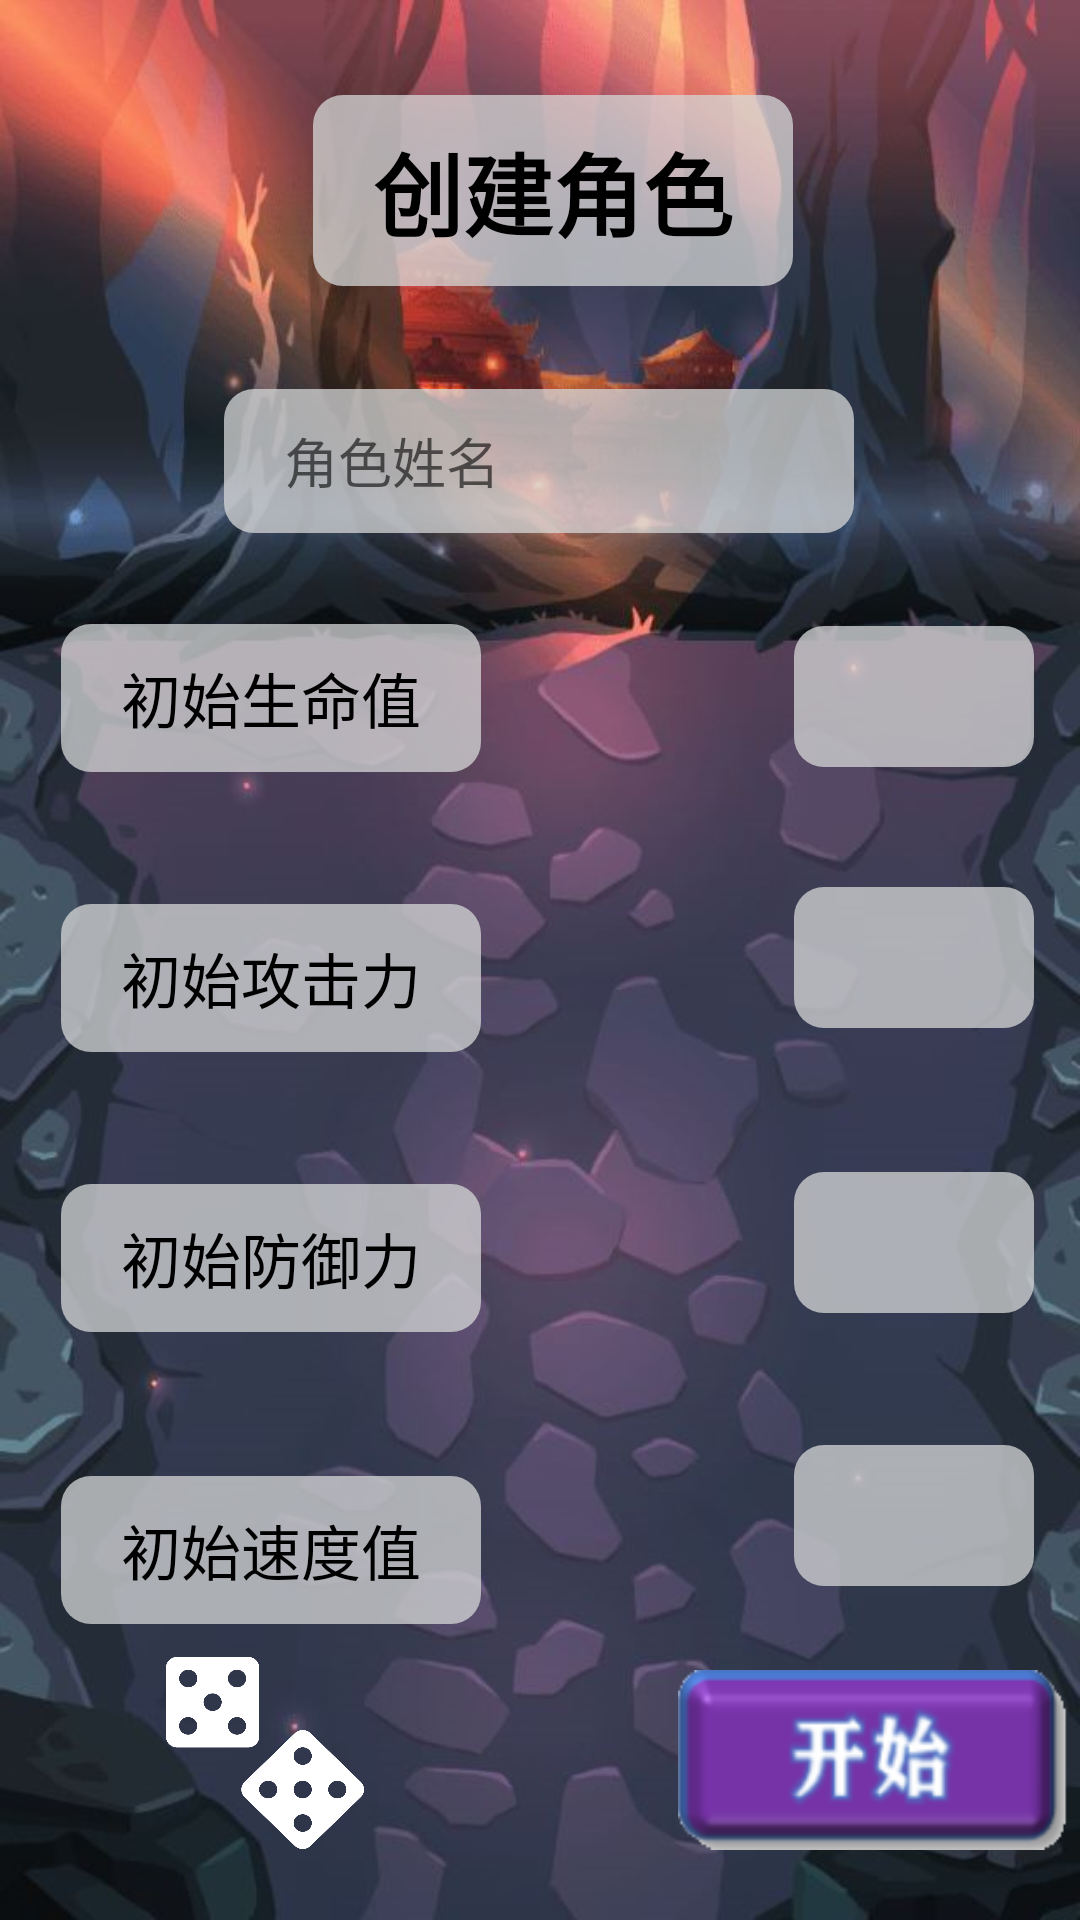

Icons on this 1080px x 1920px Android screen, each with the point to tap as (x=x, y=y):
dice: (x=265, y=1753)
